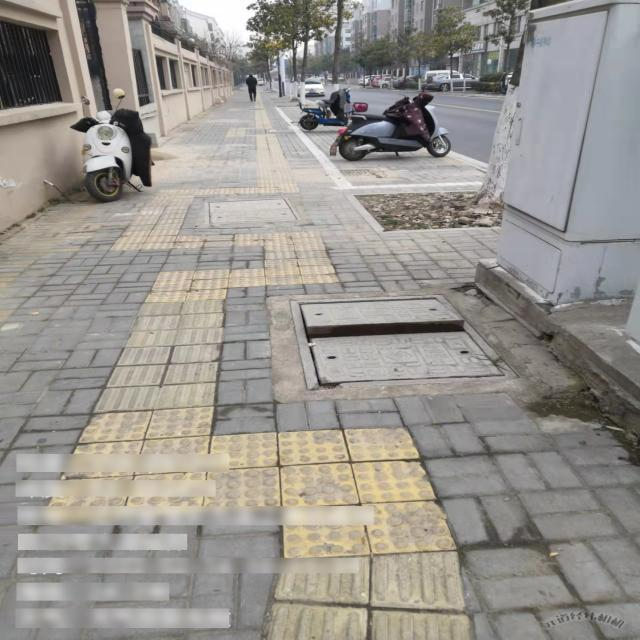Faulty: (289, 292, 519, 388)
Good: (202, 197, 302, 228)
